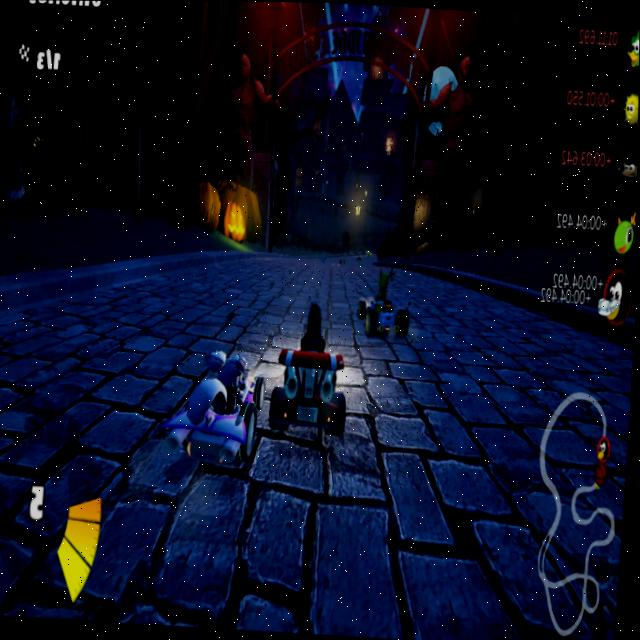enemy_kart: (169, 344, 270, 459), (355, 272, 420, 335)
player_kart: (266, 308, 353, 452)
track: (220, 258, 357, 308)
